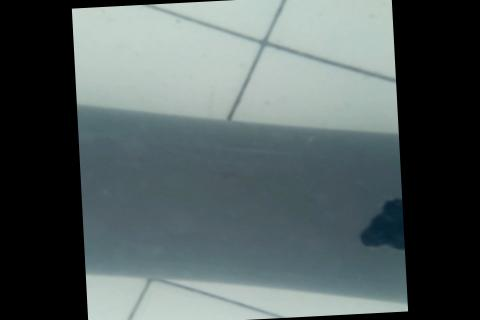kebocoran: (353, 193, 405, 252)
